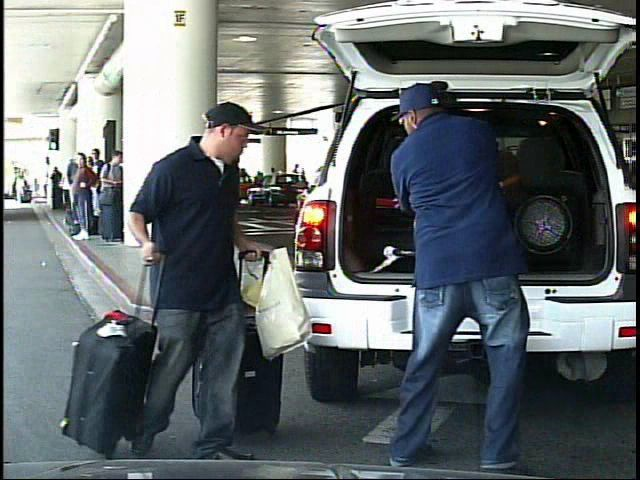person: (373, 75, 558, 477), (126, 104, 267, 458), (290, 162, 303, 195), (16, 172, 27, 203)
